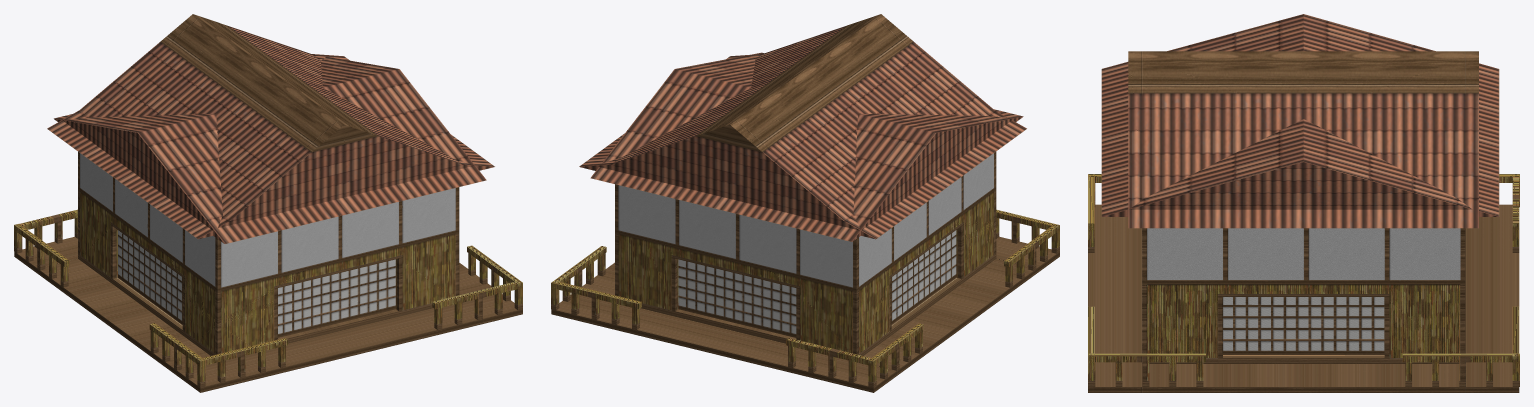
The model's file is traditional_japanese_house.glb.
The picture shows the model from 3 angles, left to right: view 1: azimuth 30°, elevation 25°; view 2: azimuth 150°, elevation 25°; view 3: azimuth 270°, elevation 25°; orthographic projection. The views are drawn at different scales.
Parts seen in each view (by area): view 1: house; view 2: house; view 3: house.
Part boxes in pixels (x1,y1,x2,y2): house: (14, 14, 522, 392); house: (551, 14, 1059, 392); house: (1088, 14, 1519, 392).
Bounding box in the file's own units: 8 × 5.13 × 8.01.
Materials: 1 (1 with a texture image).
